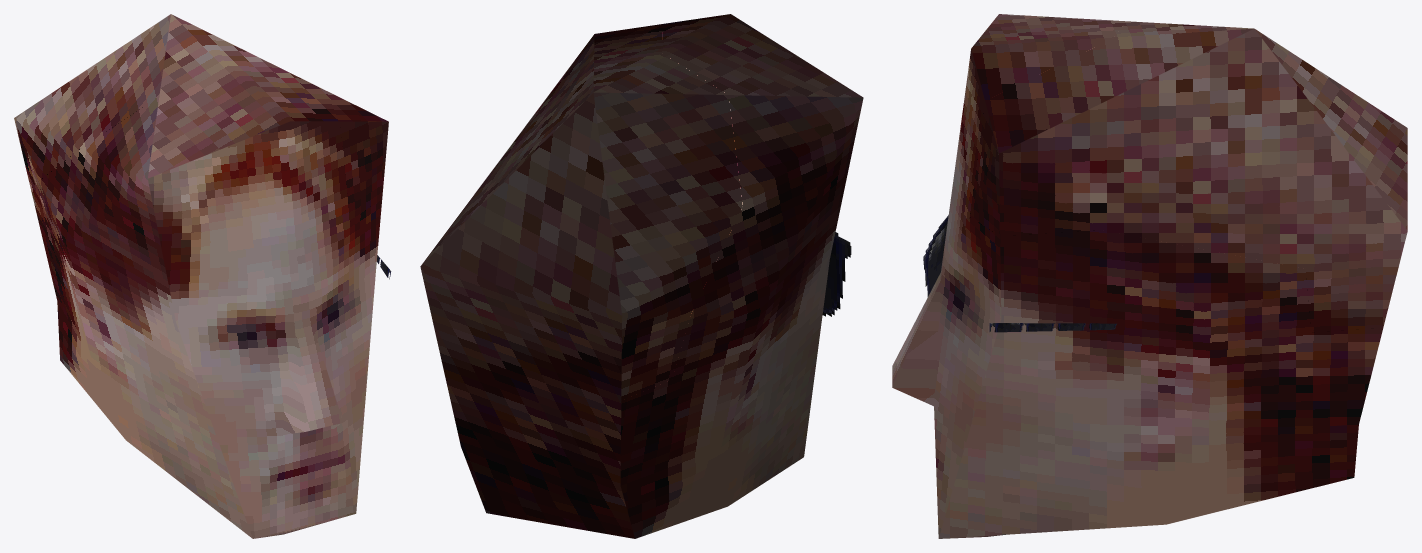
The model's file is CheadrobinZ.obj.
3 renders of one model, left to right at view 1: azimuth 30°, elevation 25°; view 2: azimuth 150°, elevation 25°; view 3: azimuth 270°, elevation 25°, orthographic. The views are drawn at different scales.
Bounding box in the file's own units: 148 × 242 × 222.
Materials: 7 (7 with a texture image).
